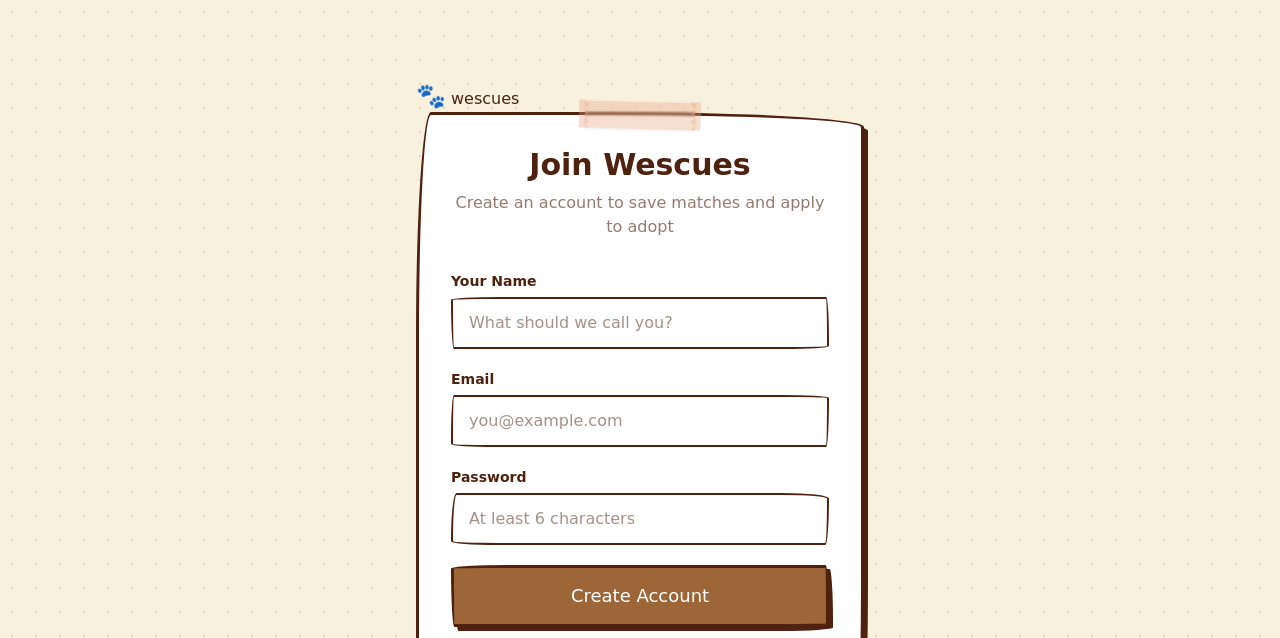
Test: Signup Page › displays error message on signup failure
The width and height of the screenshot is (1280, 638).
In the field with placeholder "What should we call you?": point(640, 323) [451,297,829,349], type "Jane"
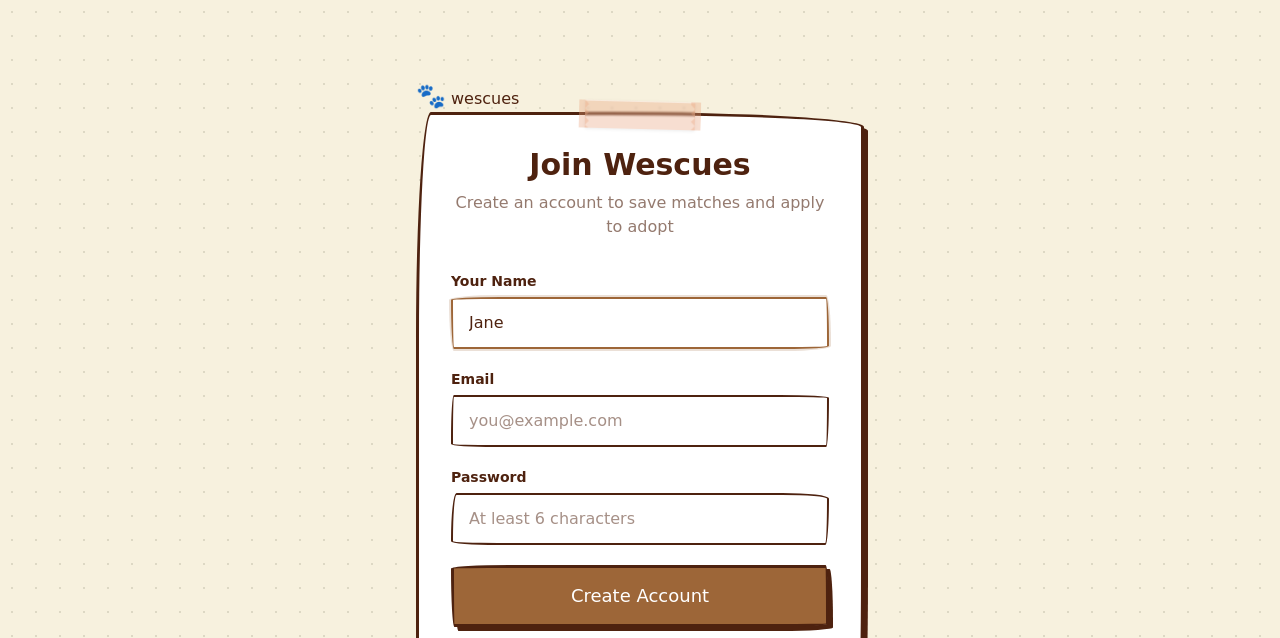
In the field with placeholder "you@example.com": point(640, 421) [451,395,829,447], type "jane@example.com"
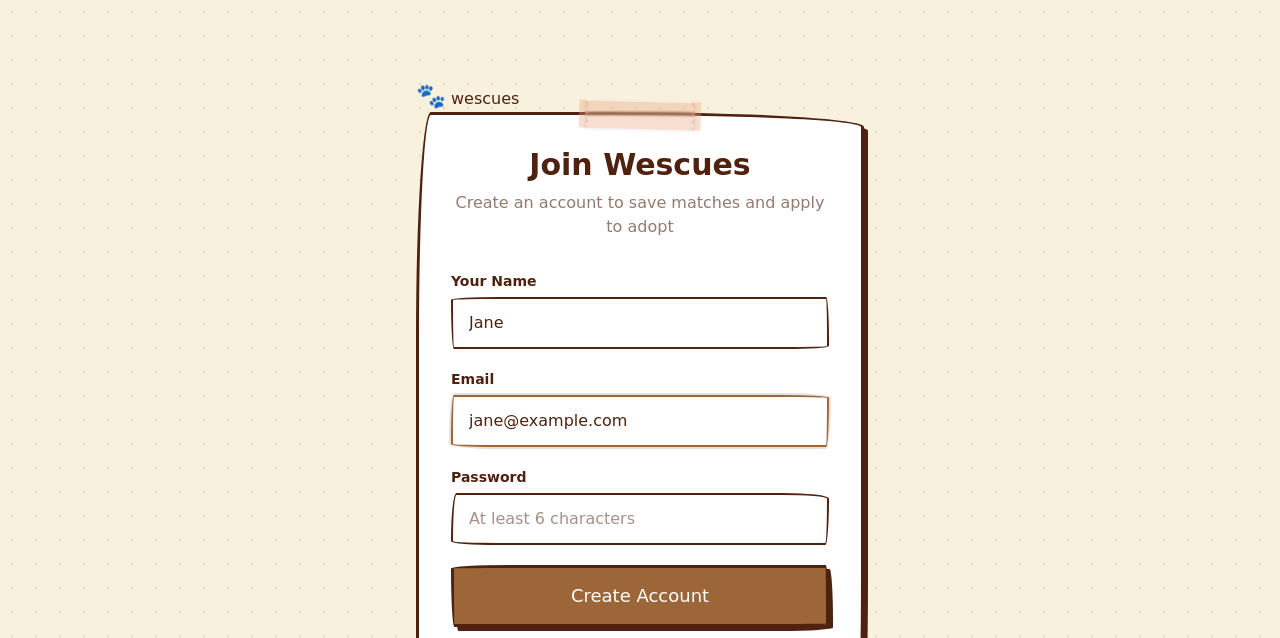
In the password field with placeholder "At least 6 characters": point(640, 519) [451,493,829,545], type "password123"
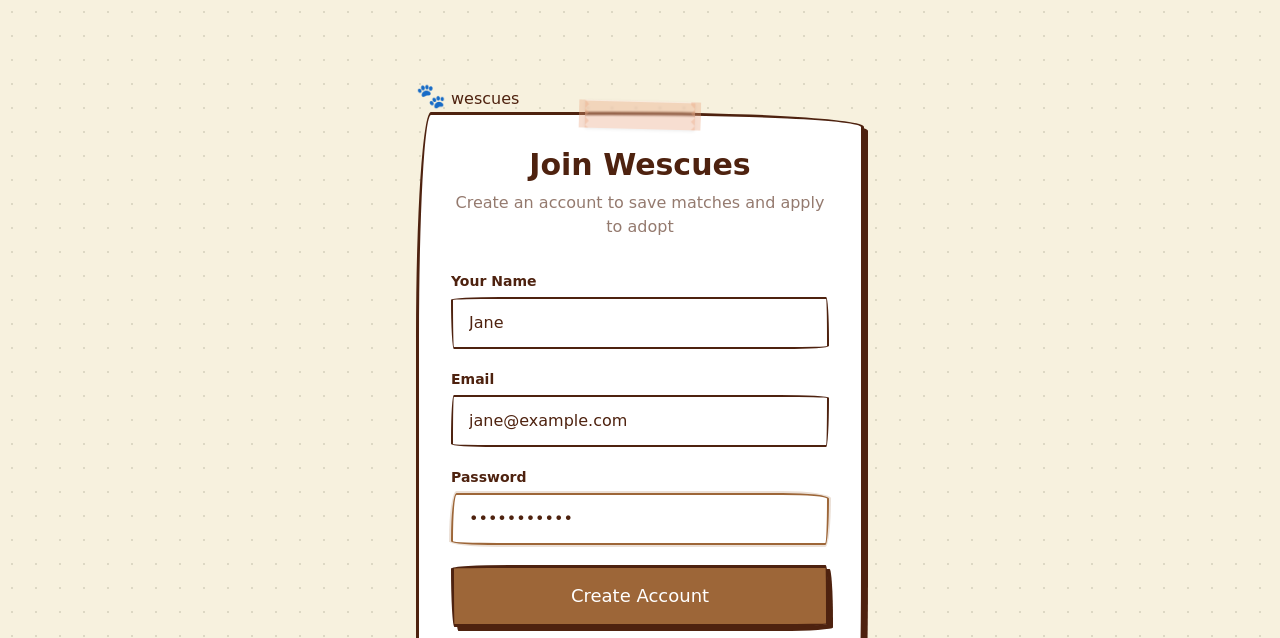
Click the button "Create Account": point(640, 596) [451,565,829,627]
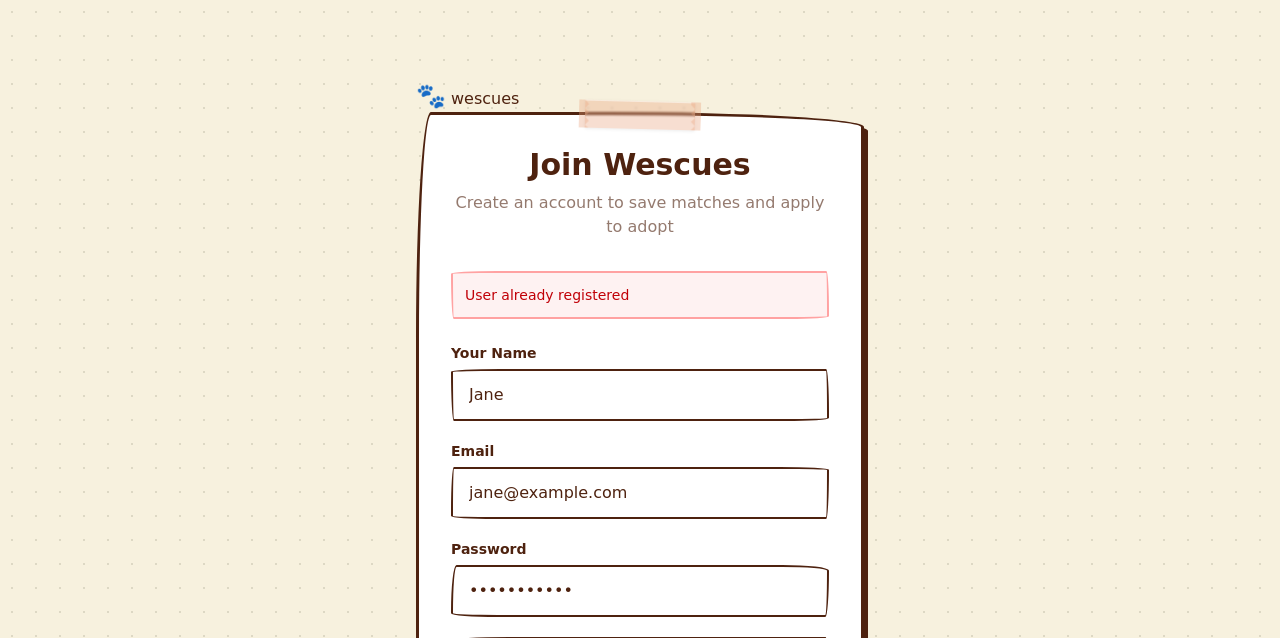
Result: the text "User already registered" is shown at [451,271,829,319]
